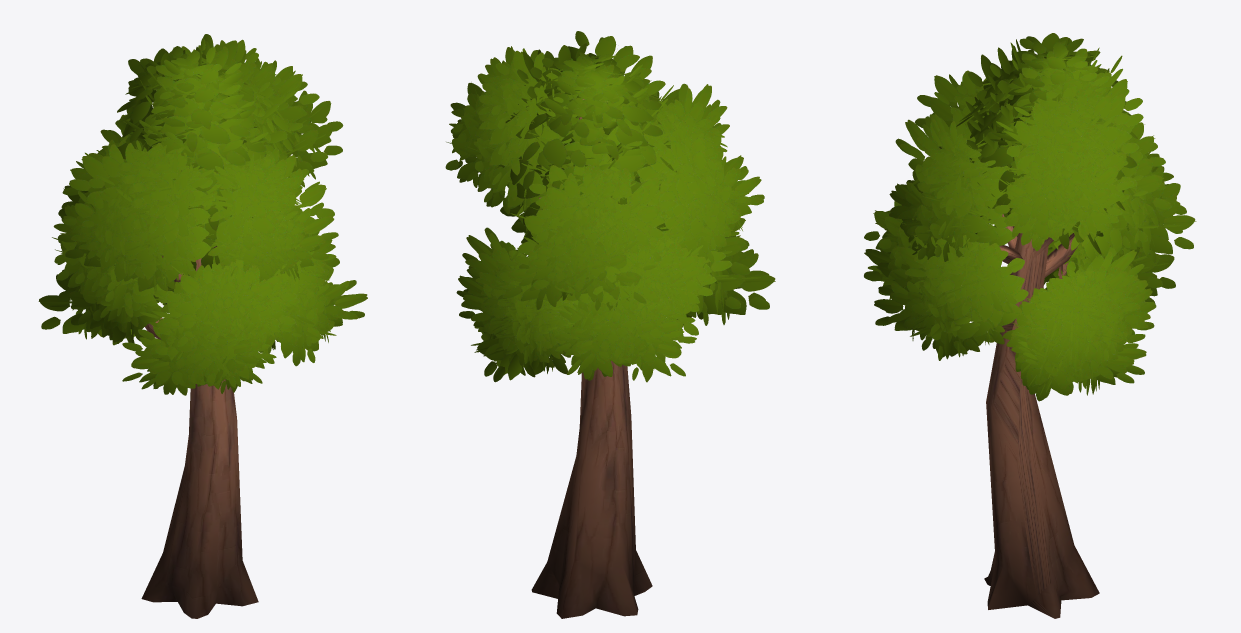
File: CommonTree_1.low.gltf
3 renders of one model, left to right at view 1: azimuth 30°, elevation 25°; view 2: azimuth 150°, elevation 25°; view 3: azimuth 270°, elevation 25°, orthographic. The views are drawn at different scales.
Parts seen in each view (by area): view 1: CommonTree_1; view 2: CommonTree_1; view 3: CommonTree_1.
Part boxes in pixels (box(x1,y1,x2,y2)): CommonTree_1: box(38, 34, 367, 618); CommonTree_1: box(445, 31, 775, 618); CommonTree_1: box(864, 33, 1196, 618).
Size of the model in its own units: 4.31 by 7.26 by 4.58.
2 materials, 2 textured.
